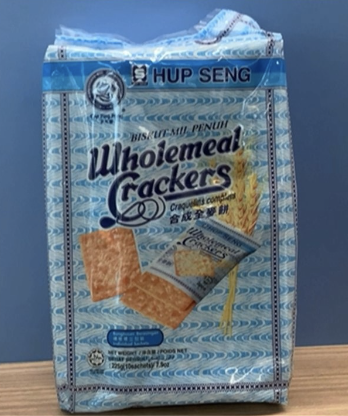crackers_150g: (75, 63, 272, 376)
